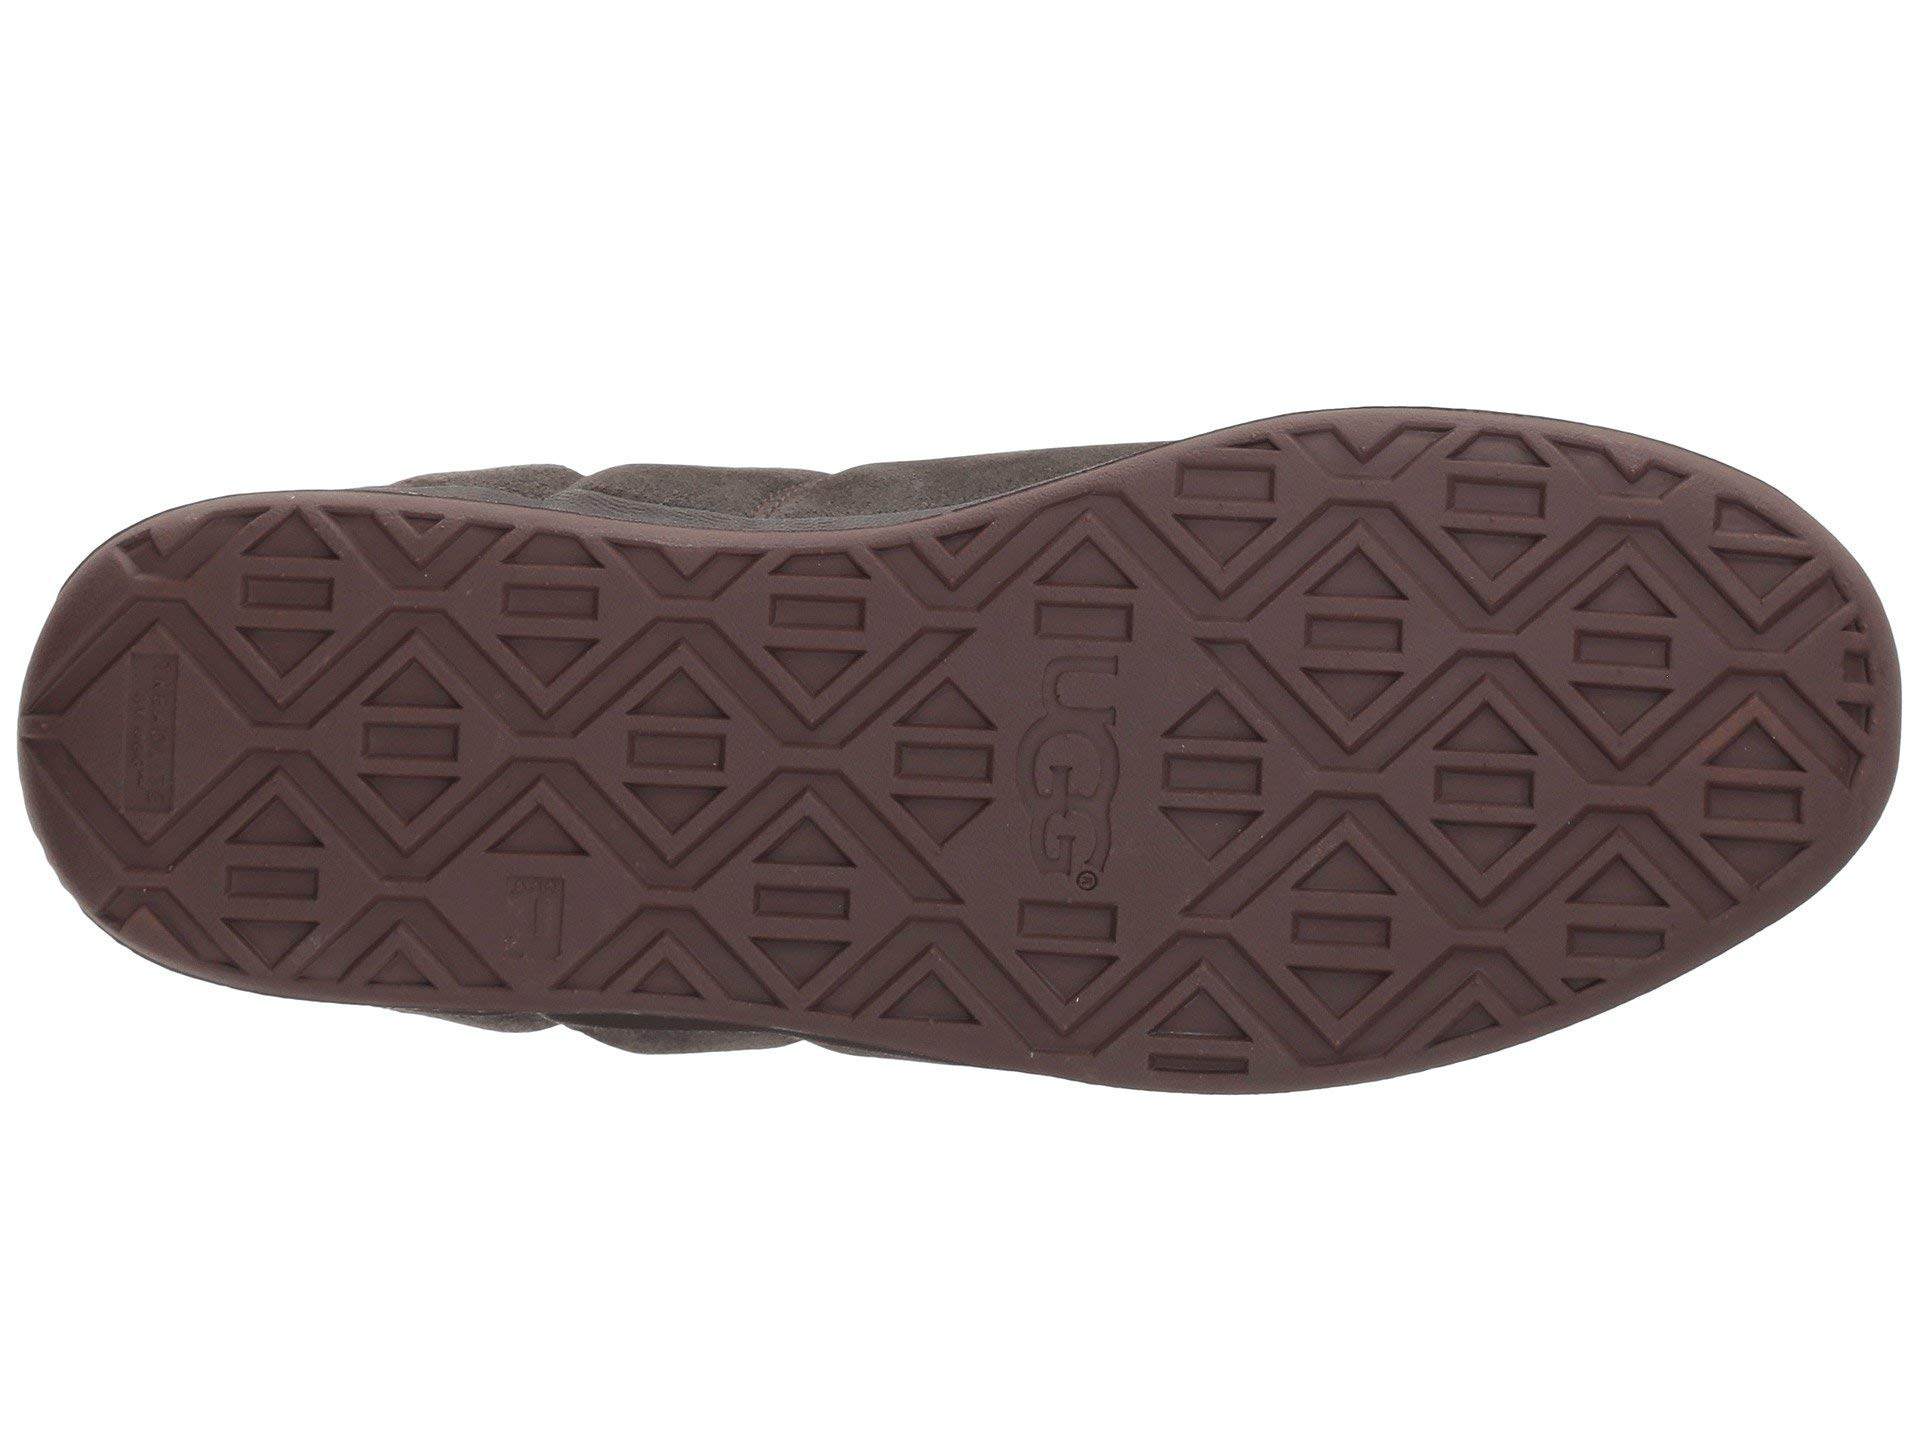chevron: (1170, 454, 1766, 915), (395, 734, 700, 994)
circle: (992, 582, 1135, 944)
line: (1170, 454, 1766, 915)
other: (395, 734, 700, 994)
quad: (1170, 454, 1766, 915), (395, 734, 700, 994), (992, 582, 1135, 944), (113, 635, 184, 827)
text: (992, 582, 1135, 944), (113, 635, 184, 827)
triangle: (1170, 454, 1766, 915), (395, 734, 700, 994)
